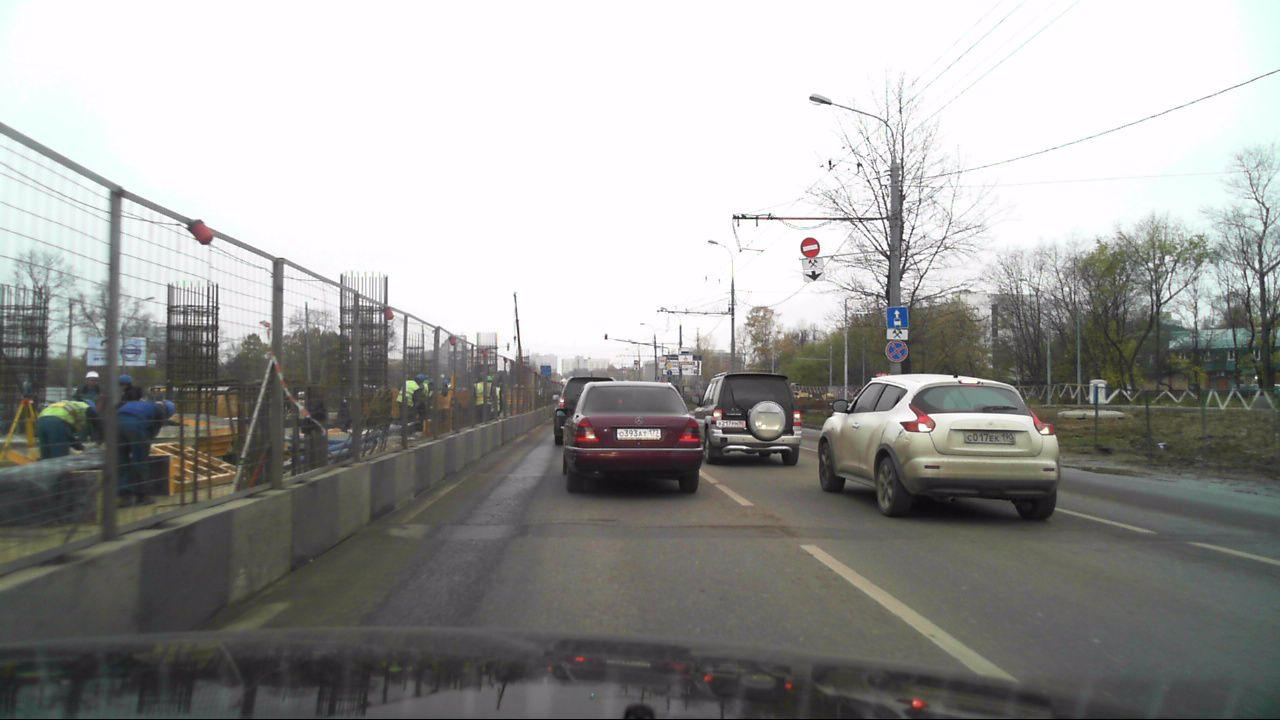2_1: (667, 362, 674, 370)
3_1: (800, 237, 820, 257), (634, 359, 639, 365)
3_27: (884, 341, 909, 363)
4_1_1: (667, 370, 673, 377)
5_14_1: (885, 306, 910, 328), (655, 376, 659, 380)
8_14: (803, 270, 826, 282), (634, 368, 640, 371)
8_5_2: (885, 327, 910, 341), (803, 258, 825, 269), (634, 365, 640, 367)
